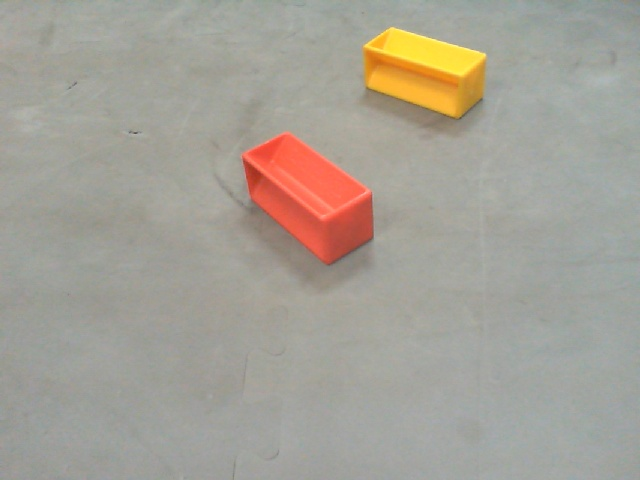RedSample: (242, 131, 372, 265)
YellowSample: (358, 25, 487, 118)
